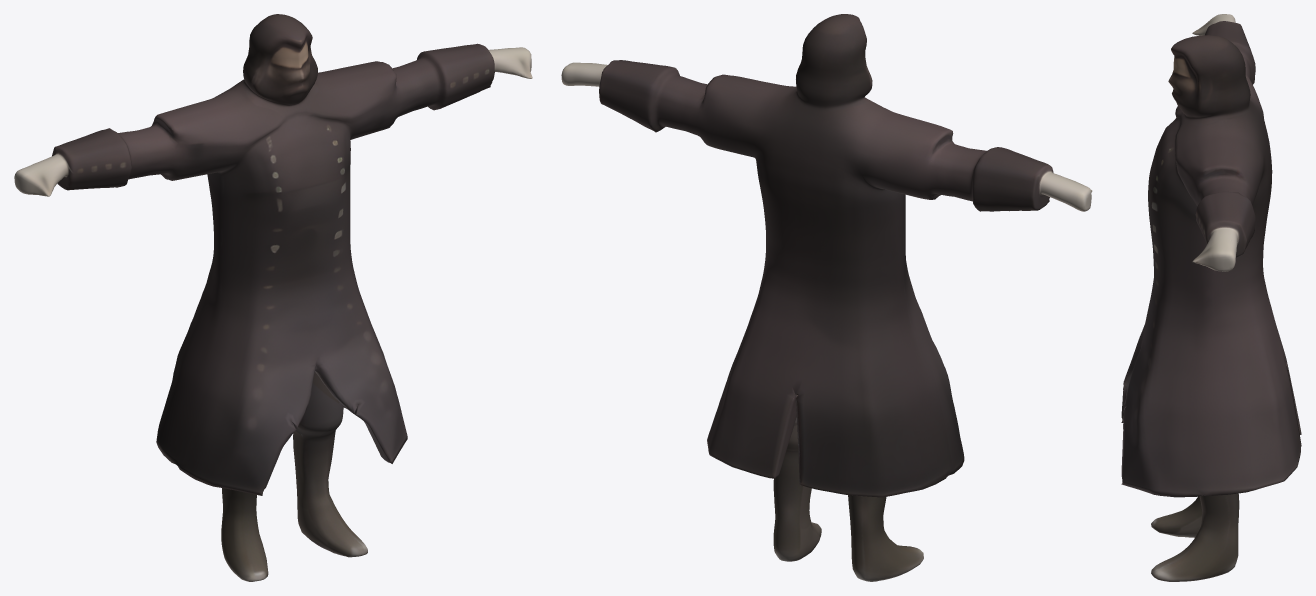
The model's file is bento_psx(1).glb.
3 views of the same model, side by side, from view 1: azimuth 30°, elevation 25°; view 2: azimuth 150°, elevation 25°; view 3: azimuth 270°, elevation 25° (orthographic). The views are drawn at different scales.
Parts seen in each view (by area): view 1: Object_2; view 2: Object_2; view 3: Object_2.
Part boxes in pixels (x1,y1,x2,y2): Object_2: [14, 14, 532, 581]; Object_2: [561, 14, 1092, 581]; Object_2: [1121, 14, 1301, 581].
Bounding box in the file's own units: 1.89 × 1.89 × 0.5971.
1 material, 1 textured.
